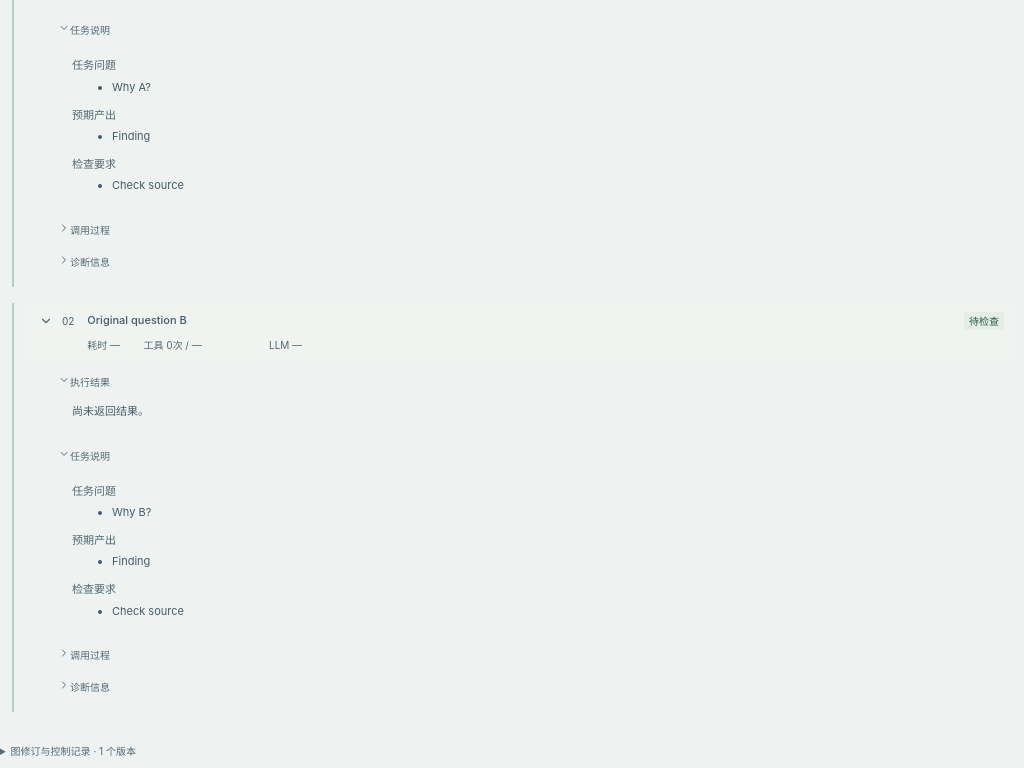
Test: actual graph process reader › labels unknown native return separately from model assessment and preserves old consumer refs
The width and height of the screenshot is (1024, 768).
(page scrolled)
Expected: the text "待检查" is shown, [964,312,1004,330]
Expected: the text "原生结束状态未知" is not shown
Click the heading "诊断信息" below "Why B?" at (84, 686), box [58,679,110,693]
(page scrolled)
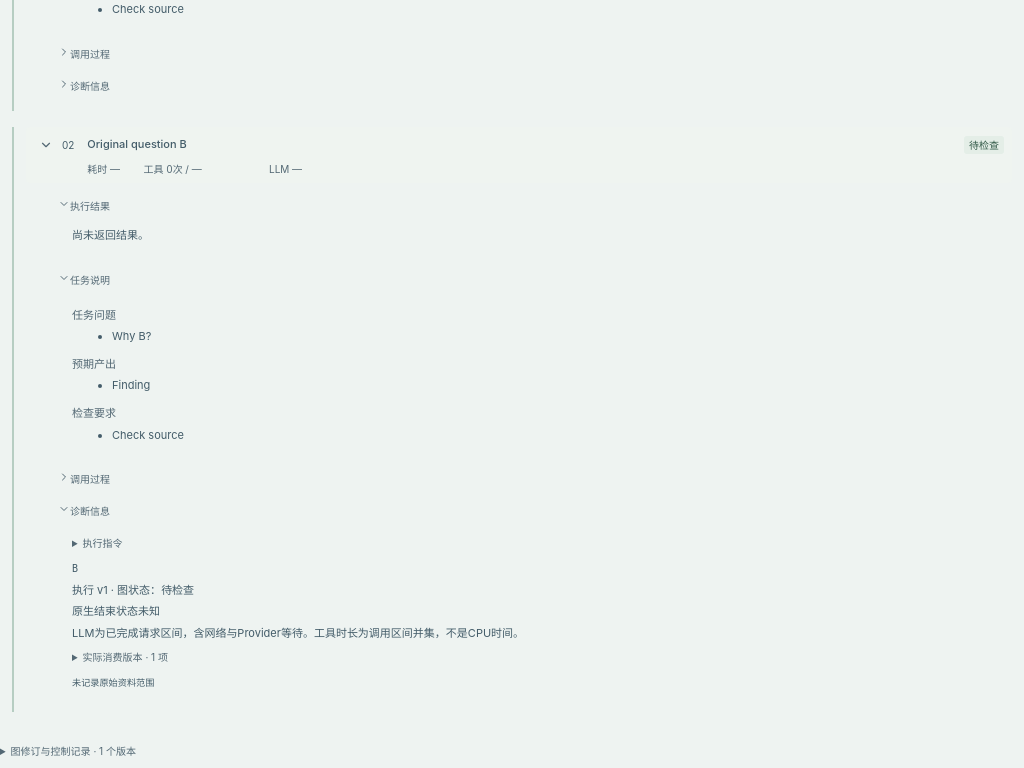
Click the heading "实际消费版本 · 1 项" at (125, 658), box [83,652,168,664]
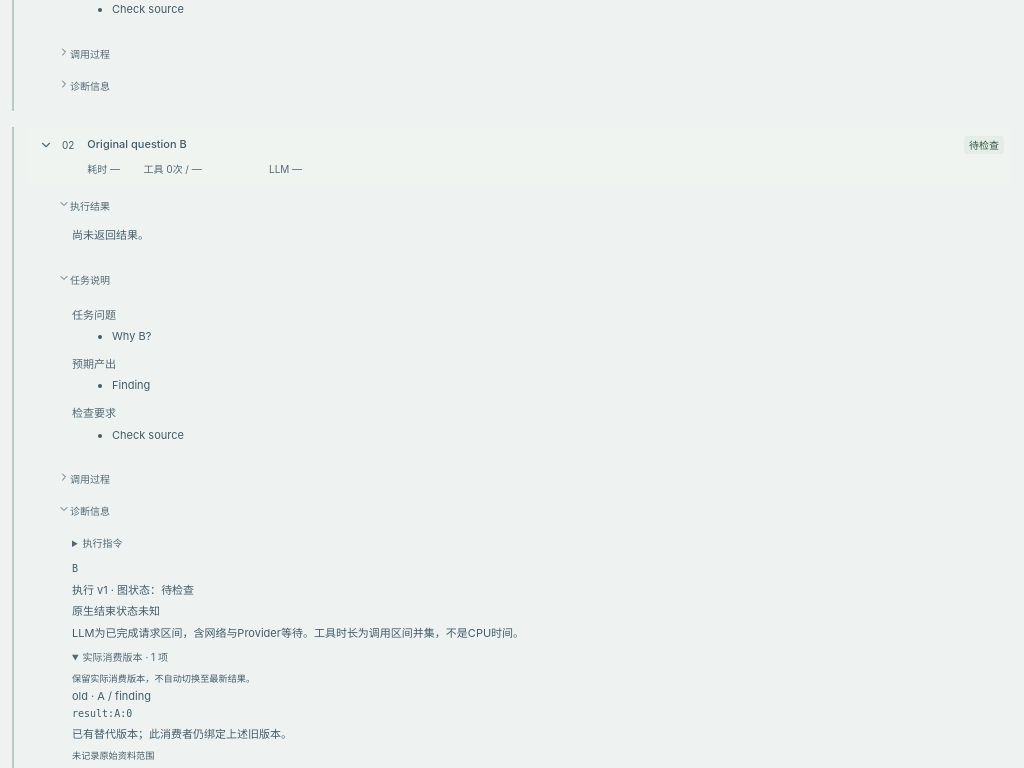
Expected: the text "result:A:0" is shown, [72,708,132,719]
Expected: the text "保留实际消费版本，不自动切换至最新结果。" is shown, [72,674,255,684]
